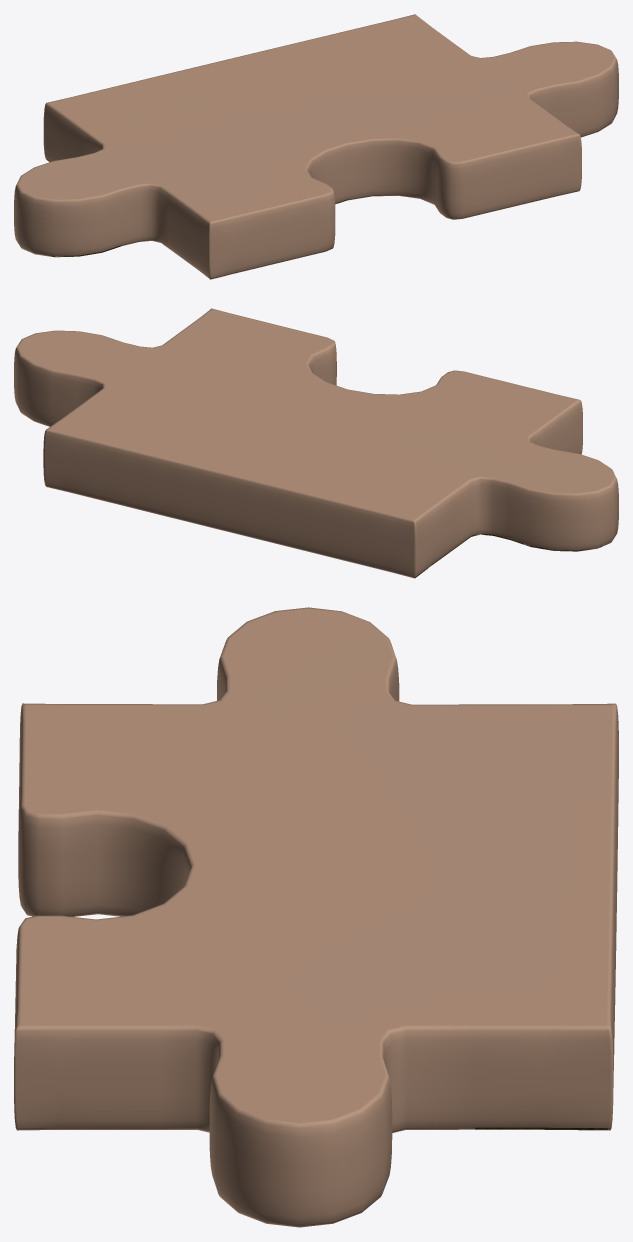
File: puzzle(1.PL).fbx
3 views of the same model, one above another, from view 1: azimuth 30°, elevation 25°; view 2: azimuth 150°, elevation 25°; view 3: azimuth 270°, elevation 25° (orthographic). The views are drawn at different scales.
Parts seen in each view (by area): view 1: pl; view 2: pl; view 3: pl.
Boxes of the visible parts, x1,y1,x2,y2 form: pl: (14, 14, 618, 279); pl: (14, 308, 618, 578); pl: (14, 607, 618, 1227).
Bounding box in the file's own units: 8.59 × 0.7955 × 4.2.
Materials: 2 (1 with a texture image).
